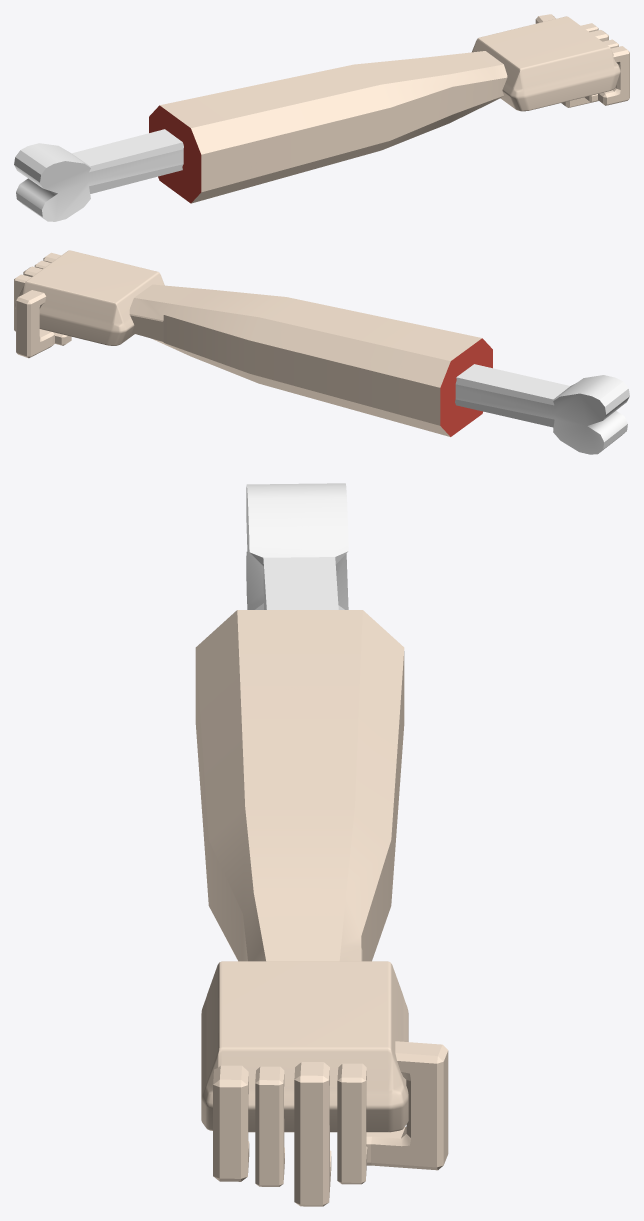
The model's file is Hand.fbx.
The picture shows the model from 3 angles, top to bottom: view 1: azimuth 30°, elevation 25°; view 2: azimuth 150°, elevation 25°; view 3: azimuth 270°, elevation 25°; orthographic projection. The views are drawn at different scales.
Parts seen in each view (by area): view 1: pCube1, pCube3, pasted__pCube1, pCube4, pasted__pCube4; view 2: pCube1, pasted__pCube1, pCube3, pasted__pCube4 (×2); view 3: pCube1, pCube3, pasted__pCube4 (×3), pasted__pCube1, pCube4, pasted__pasted__pCube4.
Boxes of the visible parts, left/top/right/bottom form: pCube1: left=149, top=51, right=507, bottom=203; pCube3: left=472, top=16, right=620, bottom=111; pasted__pCube1: left=14, top=129, right=183, bottom=221; pCube4: left=598, top=46, right=629, bottom=105; pasted__pCube4: left=561, top=30, right=608, bottom=107; pCube1: left=129, top=284, right=492, bottom=436; pasted__pCube1: left=455, top=364, right=629, bottom=454; pCube3: left=15, top=250, right=164, bottom=345; pasted__pCube4 (×2): left=16, top=266, right=71, bottom=358; pCube1: left=195, top=610, right=404, bottom=961; pCube3: left=201, top=961, right=408, bottom=1132; pasted__pCube4 (×3): left=294, top=1041, right=448, bottom=1206; pasted__pCube1: left=246, top=483, right=348, bottom=609; pCube4: left=213, top=1065, right=249, bottom=1181; pasted__pasted__pCube4: left=255, top=1066, right=284, bottom=1186.
Size of the model in its own units: 7.9 by 1.14 by 1.48.
